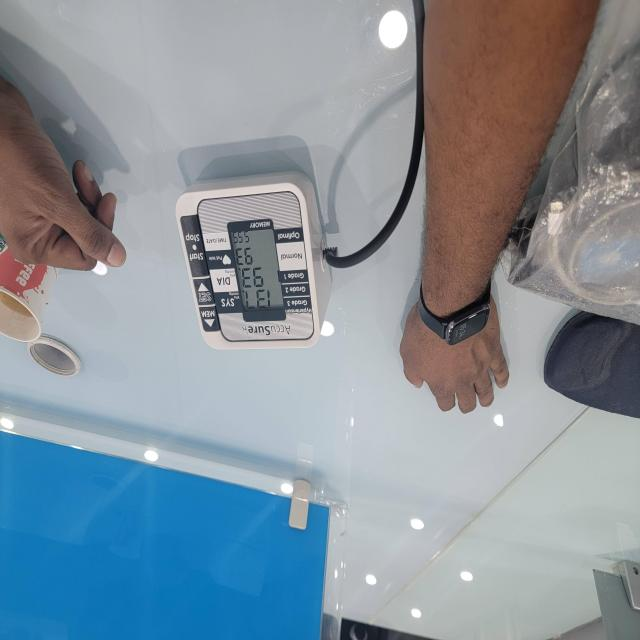bp: (178, 191, 318, 349)
